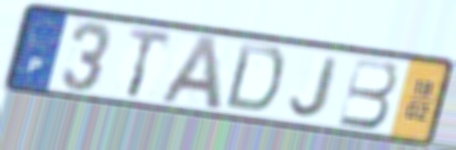3: (59, 18, 113, 95)
A: (156, 33, 225, 112)
B: (335, 55, 399, 131)
D: (221, 40, 287, 115)
J: (287, 54, 343, 120)
T: (125, 25, 175, 101)
